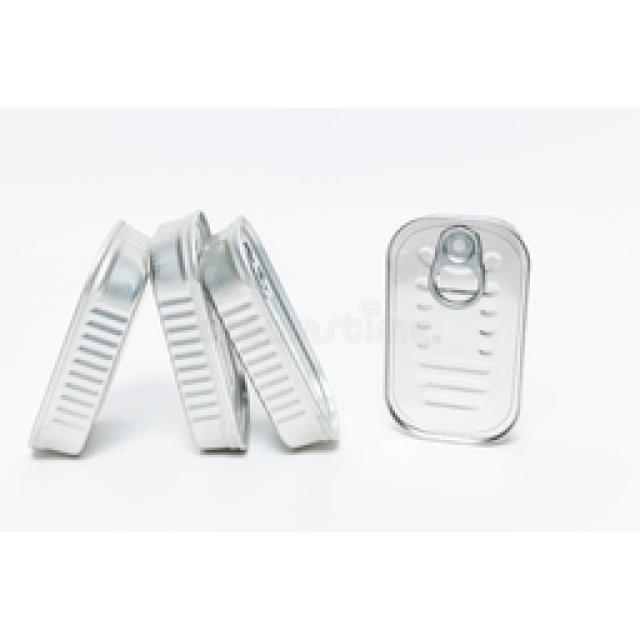alumunium: (32, 210, 335, 455), (385, 218, 528, 440)
